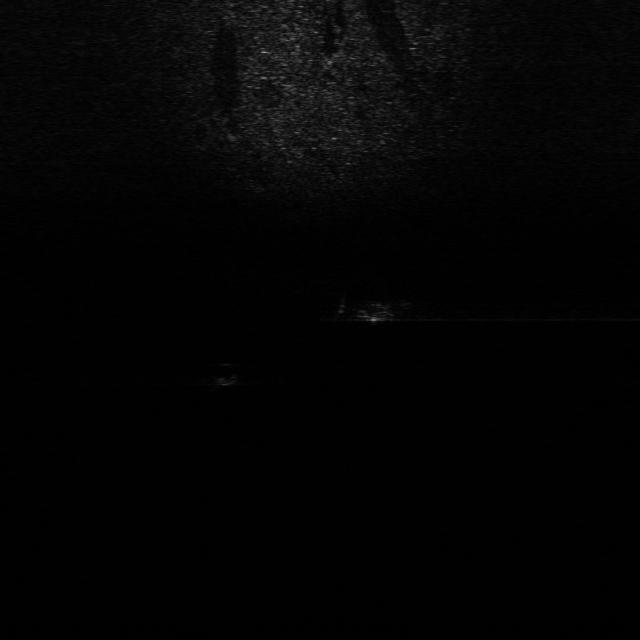ball: (212, 356, 239, 389)
human body: (329, 293, 417, 328)
